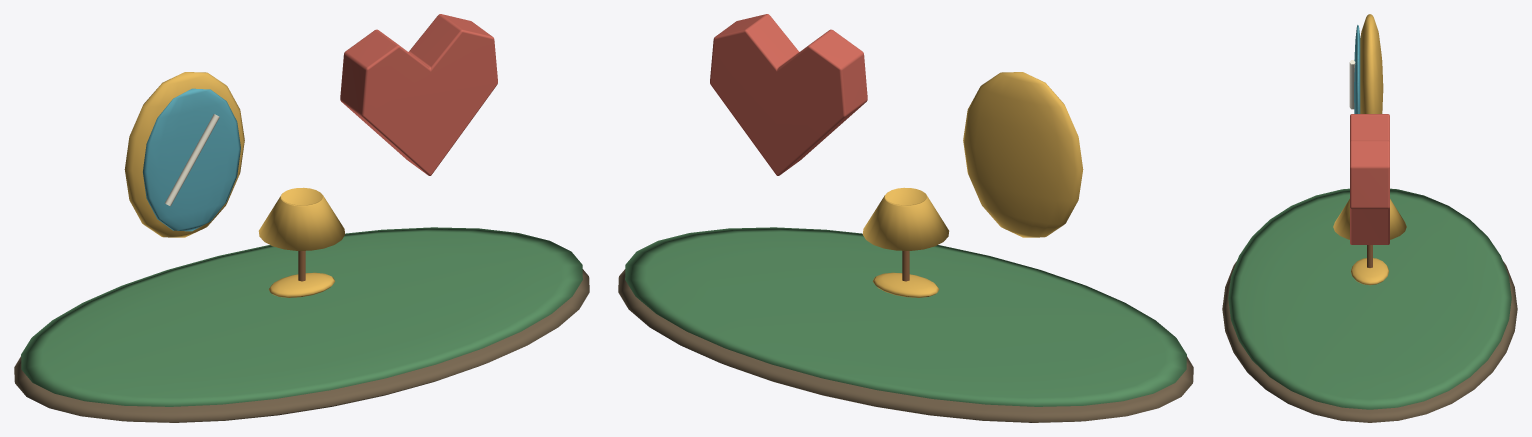
Rendered from complete-first-heart-reflection.glb.
3 renders of one model, left to right at view 1: azimuth 30°, elevation 25°; view 2: azimuth 150°, elevation 25°; view 3: azimuth 270°, elevation 25°, orthographic. The views are drawn at different scales.
Visible parts, largest first — view 1: complete-first-heart-reflection_surface_01, complete-first-heart-reflection_surface_05, complete-first-heart-reflection_surface_03, complete-first-heart-reflection_surface_00, complete-first-heart-reflection_surface_02, complete-first-heart-reflection_surface_04; view 2: complete-first-heart-reflection_surface_01, complete-first-heart-reflection_surface_02, complete-first-heart-reflection_surface_05, complete-first-heart-reflection_surface_00; view 3: complete-first-heart-reflection_surface_01, complete-first-heart-reflection_surface_00, complete-first-heart-reflection_surface_05, complete-first-heart-reflection_surface_02, complete-first-heart-reflection_surface_03.
Boxes of the visible parts, x1,y1,x2,y2 form: complete-first-heart-reflection_surface_01: [21, 227, 582, 406]; complete-first-heart-reflection_surface_05: [340, 14, 497, 175]; complete-first-heart-reflection_surface_03: [143, 88, 240, 231]; complete-first-heart-reflection_surface_00: [14, 269, 589, 422]; complete-first-heart-reflection_surface_02: [124, 72, 345, 297]; complete-first-heart-reflection_surface_04: [165, 114, 219, 206]; complete-first-heart-reflection_surface_01: [625, 227, 1186, 406]; complete-first-heart-reflection_surface_02: [862, 72, 1083, 297]; complete-first-heart-reflection_surface_05: [710, 14, 867, 175]; complete-first-heart-reflection_surface_00: [618, 269, 1193, 422]; complete-first-heart-reflection_surface_01: [1228, 188, 1511, 409]; complete-first-heart-reflection_surface_00: [1222, 261, 1517, 422]; complete-first-heart-reflection_surface_05: [1350, 114, 1389, 244]; complete-first-heart-reflection_surface_02: [1333, 14, 1406, 285]; complete-first-heart-reflection_surface_03: [1354, 25, 1360, 113].
Bounding box in the file's own units: 4.56 × 2.4 × 2.5.
